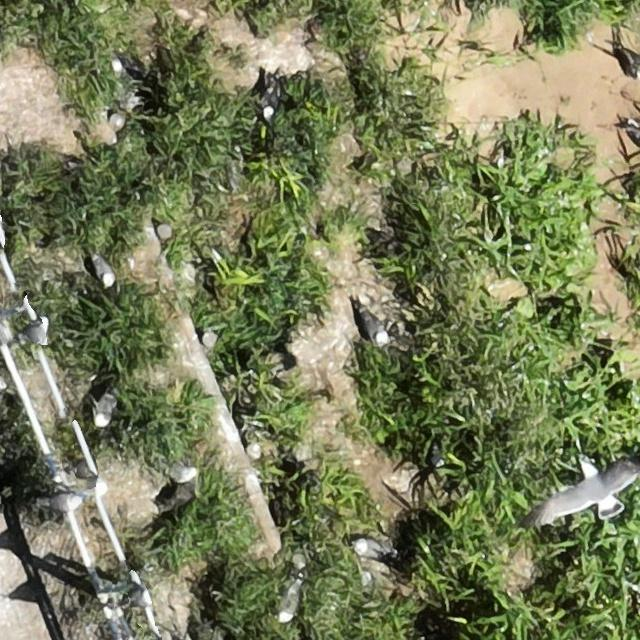F: (547, 458, 636, 518)
umineko: (280, 581, 302, 620), (364, 310, 386, 342), (169, 461, 199, 484), (77, 476, 110, 496), (21, 321, 48, 345), (266, 80, 282, 120), (93, 256, 114, 286), (43, 495, 80, 512), (355, 540, 385, 558), (96, 396, 113, 425), (130, 587, 152, 609)
